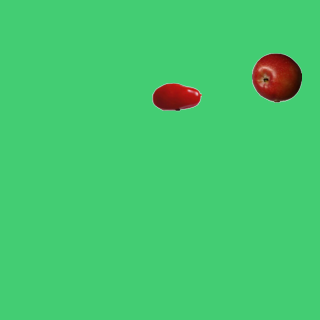Apple Braeburn: (251, 52, 301, 102)
Tomato 2: (151, 71, 201, 121)
